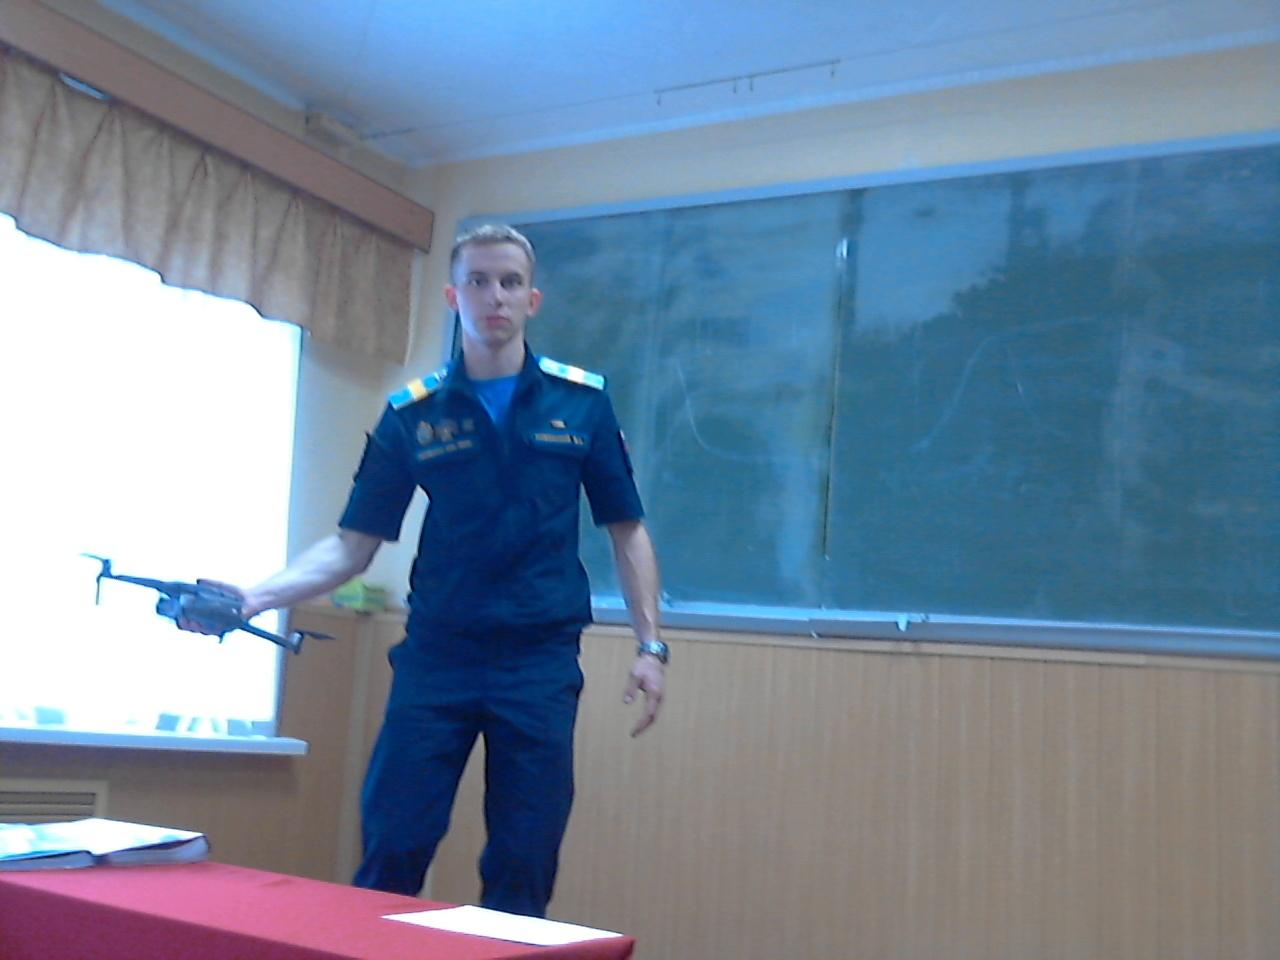drone: (70, 526, 353, 677)
